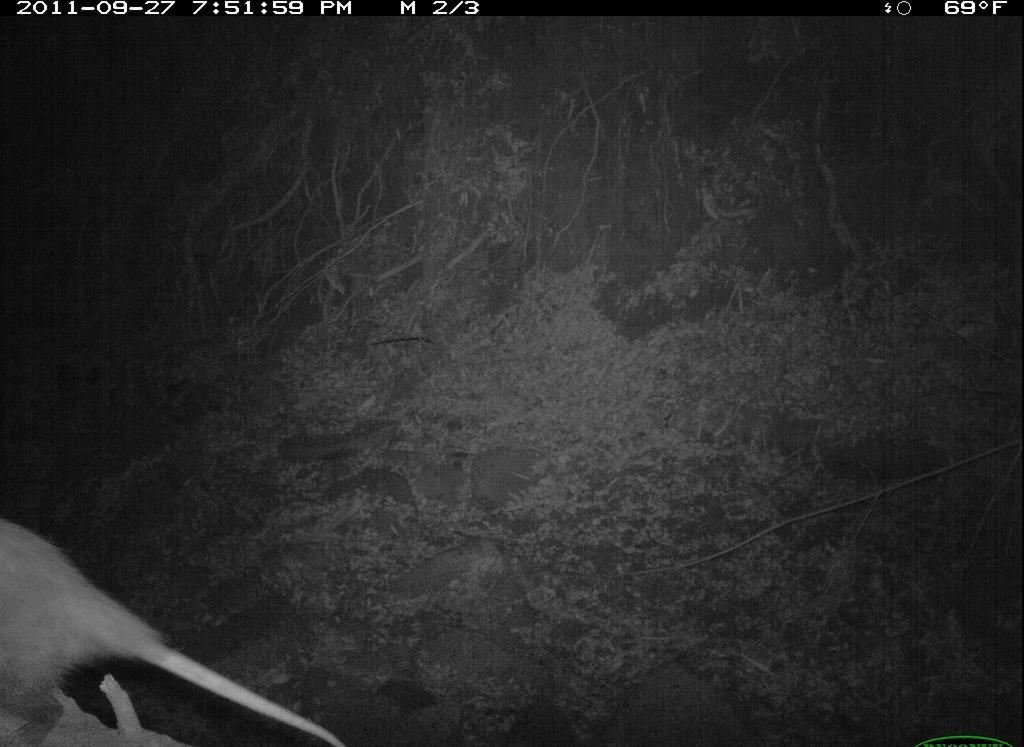opossum: (1, 502, 356, 738)
